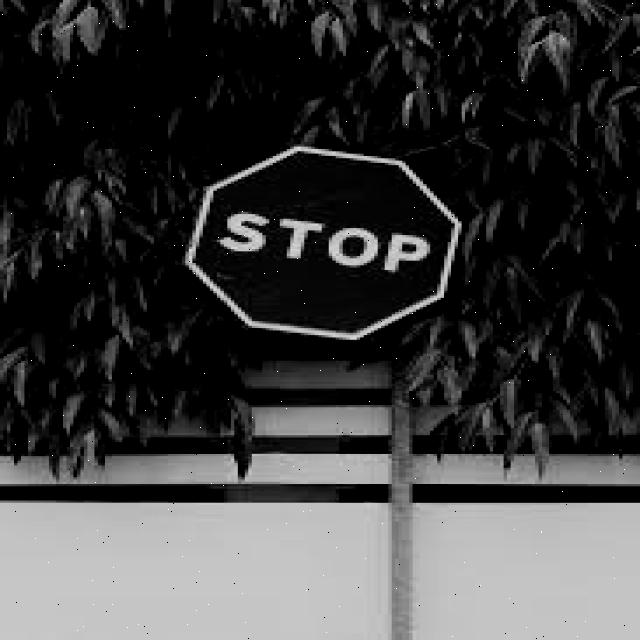stop sign: (187, 140, 461, 334)
